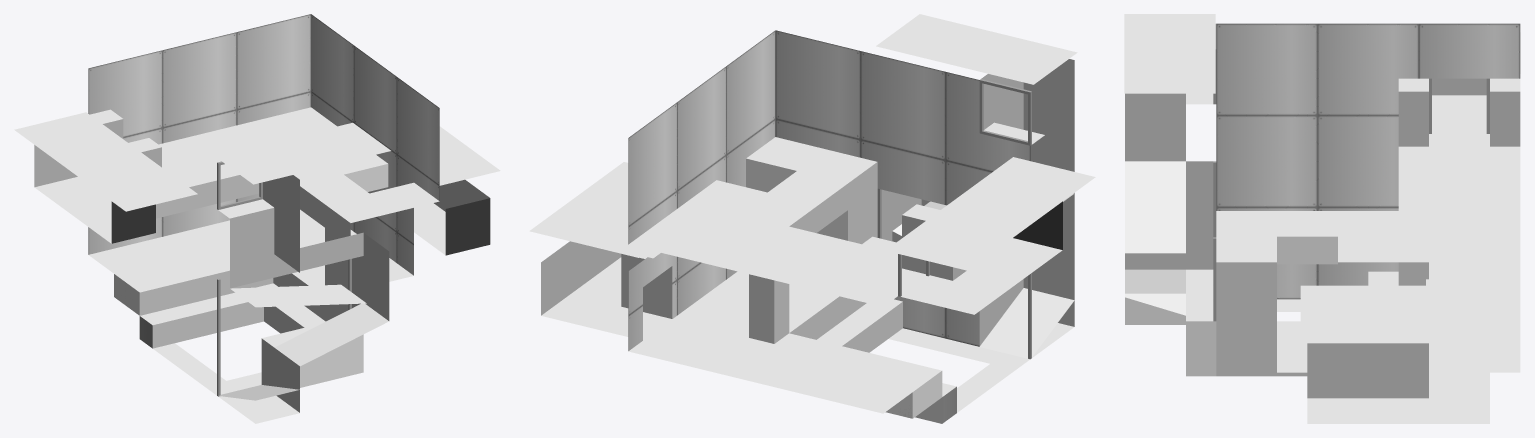
File: Area4.gltf
The picture shows the model from 3 angles, left to right: view 1: azimuth 30°, elevation 25°; view 2: azimuth 150°, elevation 25°; view 3: azimuth 270°, elevation 25°; orthographic projection. The views are drawn at different scales.
Visible parts, largest first — view 1: Grid.001; view 2: Grid.001; view 3: Grid.001.
Part boxes in pixels (box(x1,y1,x2,y2)): Grid.001: box(14, 14, 500, 423); Grid.001: box(529, 14, 1095, 423); Grid.001: box(1124, 14, 1520, 423).
Size of the model in its own units: 35.33 by 20.6 by 26.08.
Materials: 6 (1 with a texture image).
